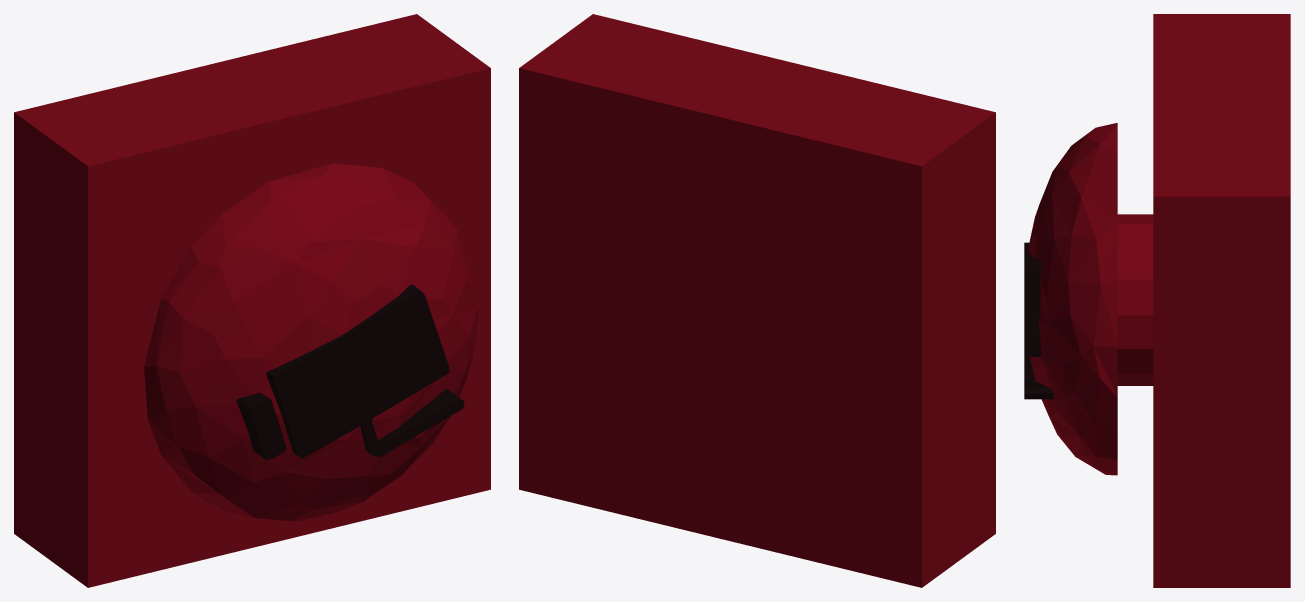
File: bouton-camera.obj
3 renders of one model, left to right at view 1: azimuth 30°, elevation 25°; view 2: azimuth 150°, elevation 25°; view 3: azimuth 270°, elevation 25°, orthographic. The views are drawn at different scales.
Visible parts, largest first — view 1: Object.1, Object.3, Object.5, Object.4; view 2: Object.1; view 3: Object.1, Object.3, Object.2, Object.5.
Boxes of the visible parts, x1,y1,x2,y2 form: Object.1: [14, 14, 490, 587]; Object.3: [144, 163, 477, 521]; Object.5: [266, 284, 464, 458]; Object.4: [236, 392, 286, 460]; Object.1: [519, 14, 995, 587]; Object.1: [1153, 14, 1290, 587]; Object.3: [1027, 123, 1117, 475]; Object.2: [1117, 214, 1153, 385]; Object.5: [1024, 242, 1053, 399].
Bounding box in the file's own units: 99.86 × 99.86 × 61.61.
